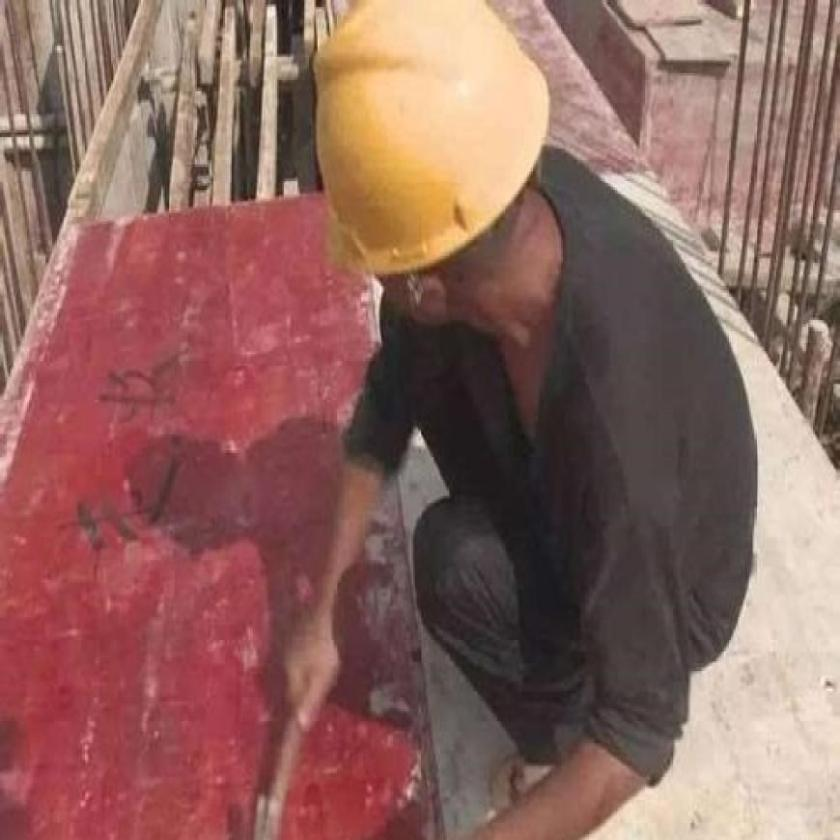Con_casco: (308, 0, 562, 364)
